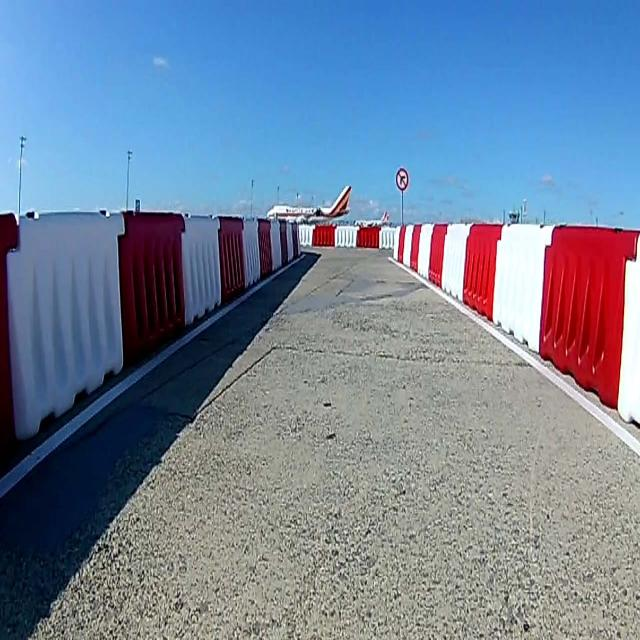sagadonulmez: (395, 167, 409, 191)
